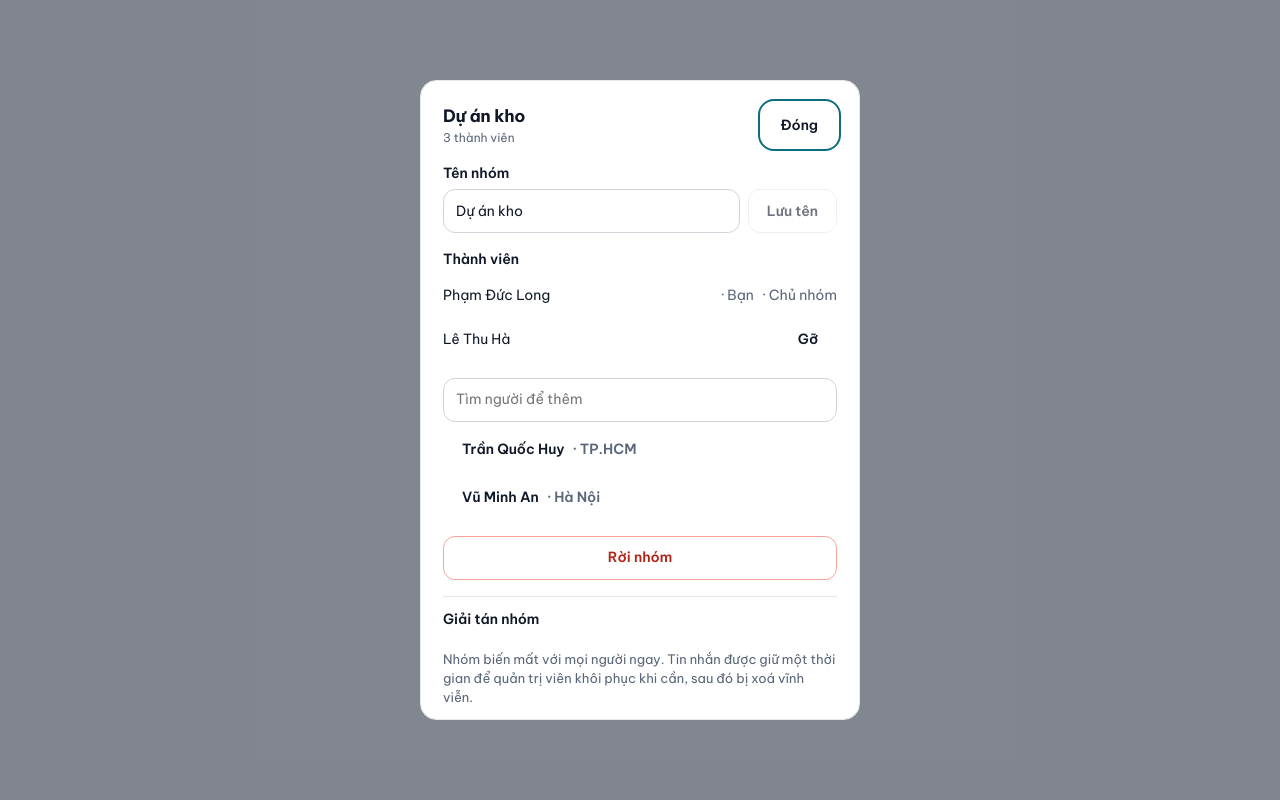
Scenario: GroupPanel › asks a different leave confirmation for the owner, then leaves and goes home
Click the button "Rời nhóm": coordinates (640, 558) left=443, top=536, right=837, bottom=580
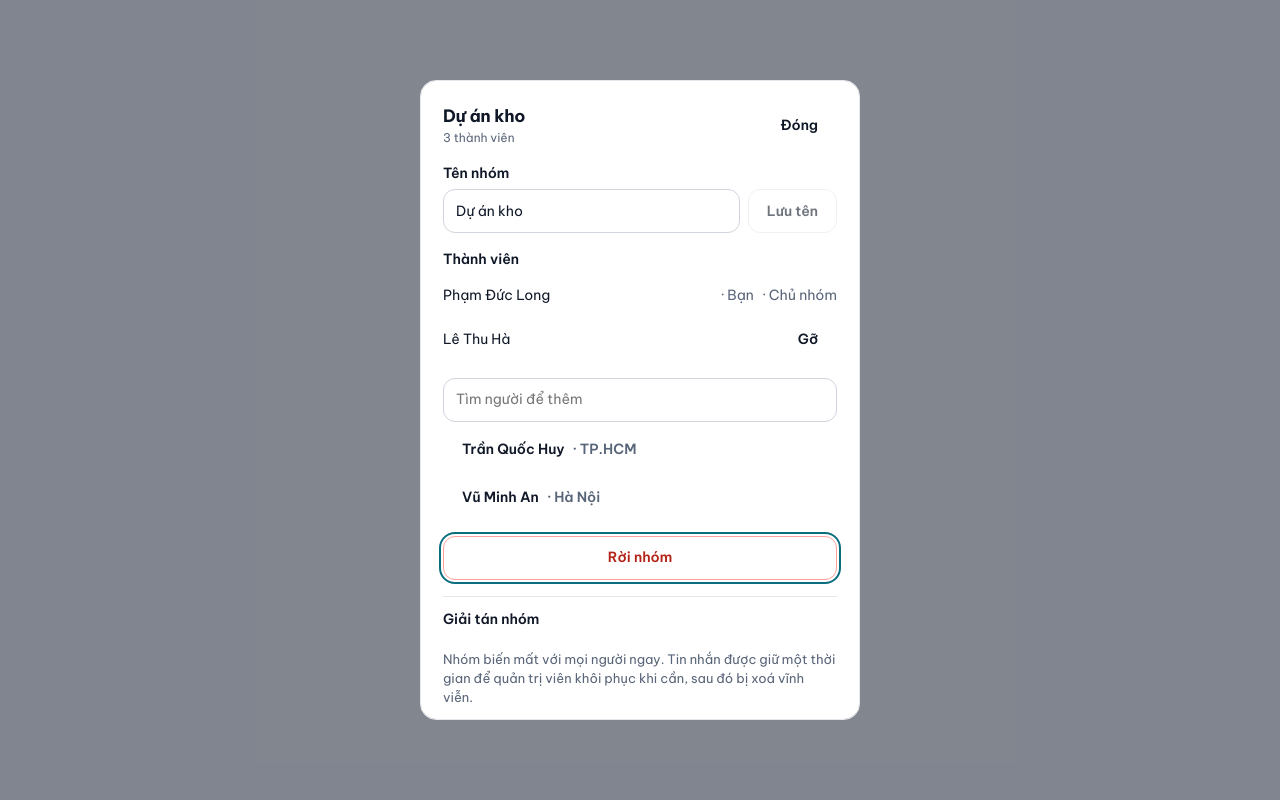
Click the button "Rời nhóm": coordinates (640, 558) left=443, top=536, right=837, bottom=580
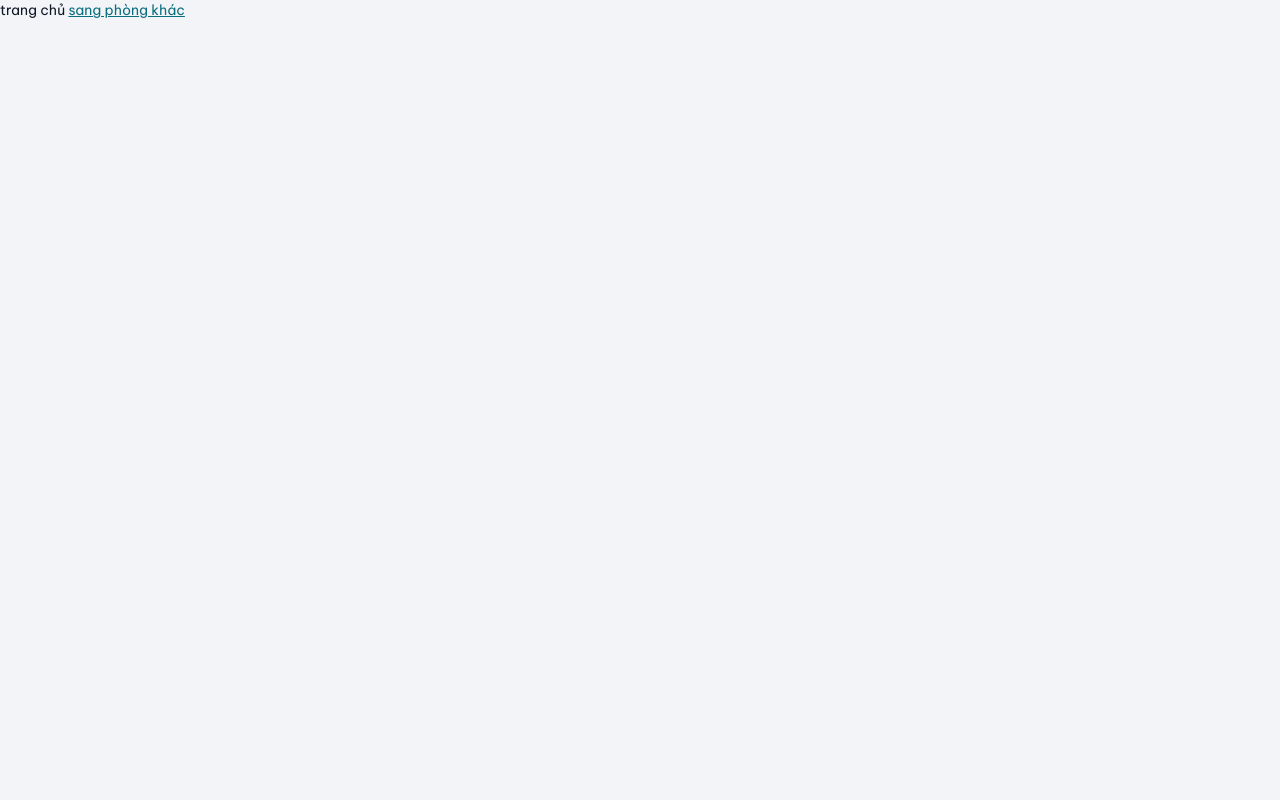
Result: the text "trang chủ" is shown at left=0, top=1, right=68, bottom=19
